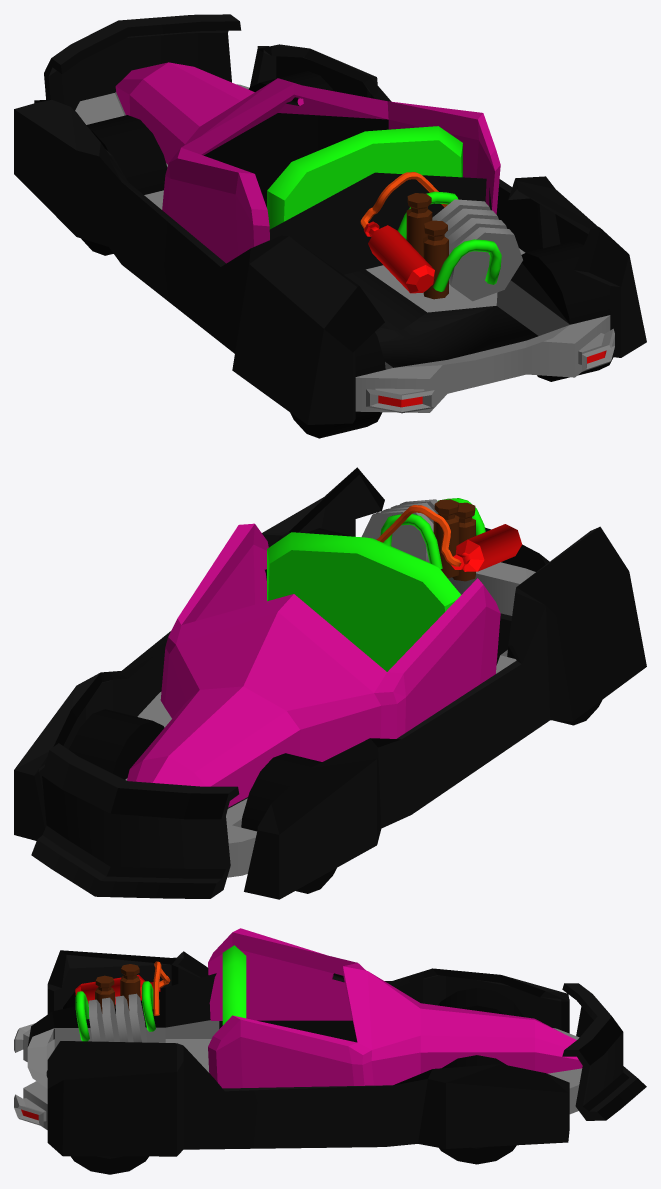
File: car-parsche-sport-green_6.fbx
3 renders of one model, top to bottom at view 1: azimuth 30°, elevation 25°; view 2: azimuth 150°, elevation 25°; view 3: azimuth 270°, elevation 25°, orthographic. The views are drawn at different scales.
Visible parts, largest first — view 1: car-parsche-sport-green_6, wheel_4, wheel_1, wheel_3, wheel_2; view 2: car-parsche-sport-green_6, wheel_2, wheel_1; view 3: car-parsche-sport-green_6, wheel_1, wheel_2, wheel_4.
Boxes of the visible parts, x1,y1,x2,y2 form: car-parsche-sport-green_6: (14,14,646,424); wheel_4: (521,241,613,381); wheel_1: (81,115,167,255); wheel_3: (290,332,385,438); wheel_2: (248,71,333,91); car-parsche-sport-green_6: (14,467,646,899); wheel_2: (69,709,164,779); wheel_1: (241,753,336,893); car-parsche-sport-green_6: (14,928,646,1156); wheel_1: (438,988,523,1016); wheel_2: (439,1055,516,1164); wheel_4: (71,1156,148,1174).
Bounding box in the file's own units: 1.26 × 2.65 × 0.7376.
